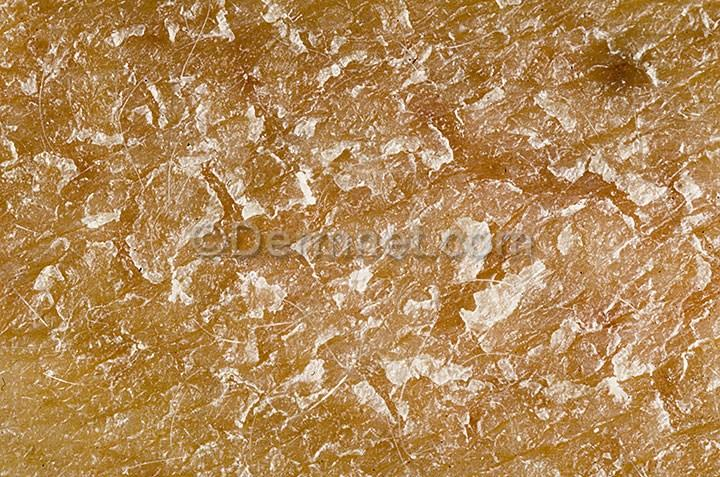Eczema: (0, 146, 189, 332), (324, 304, 508, 477), (535, 310, 720, 474), (397, 151, 593, 304), (215, 146, 383, 313), (147, 320, 316, 477), (0, 0, 158, 148), (288, 0, 435, 153), (160, 0, 305, 153), (432, 0, 568, 153), (587, 150, 720, 306), (0, 321, 145, 461), (588, 0, 718, 151)
